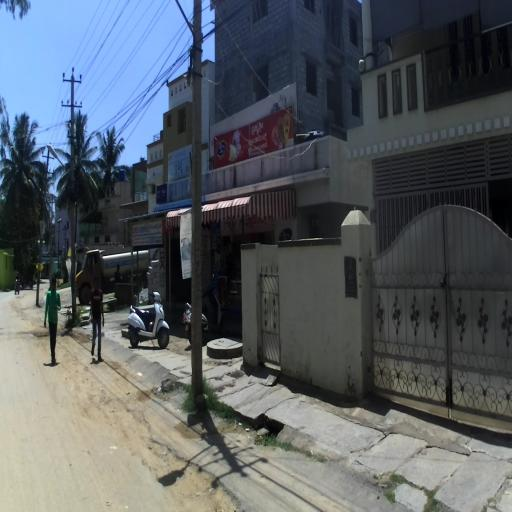street_light_0: (46, 144, 74, 194), (28, 179, 45, 213), (52, 218, 62, 226)
